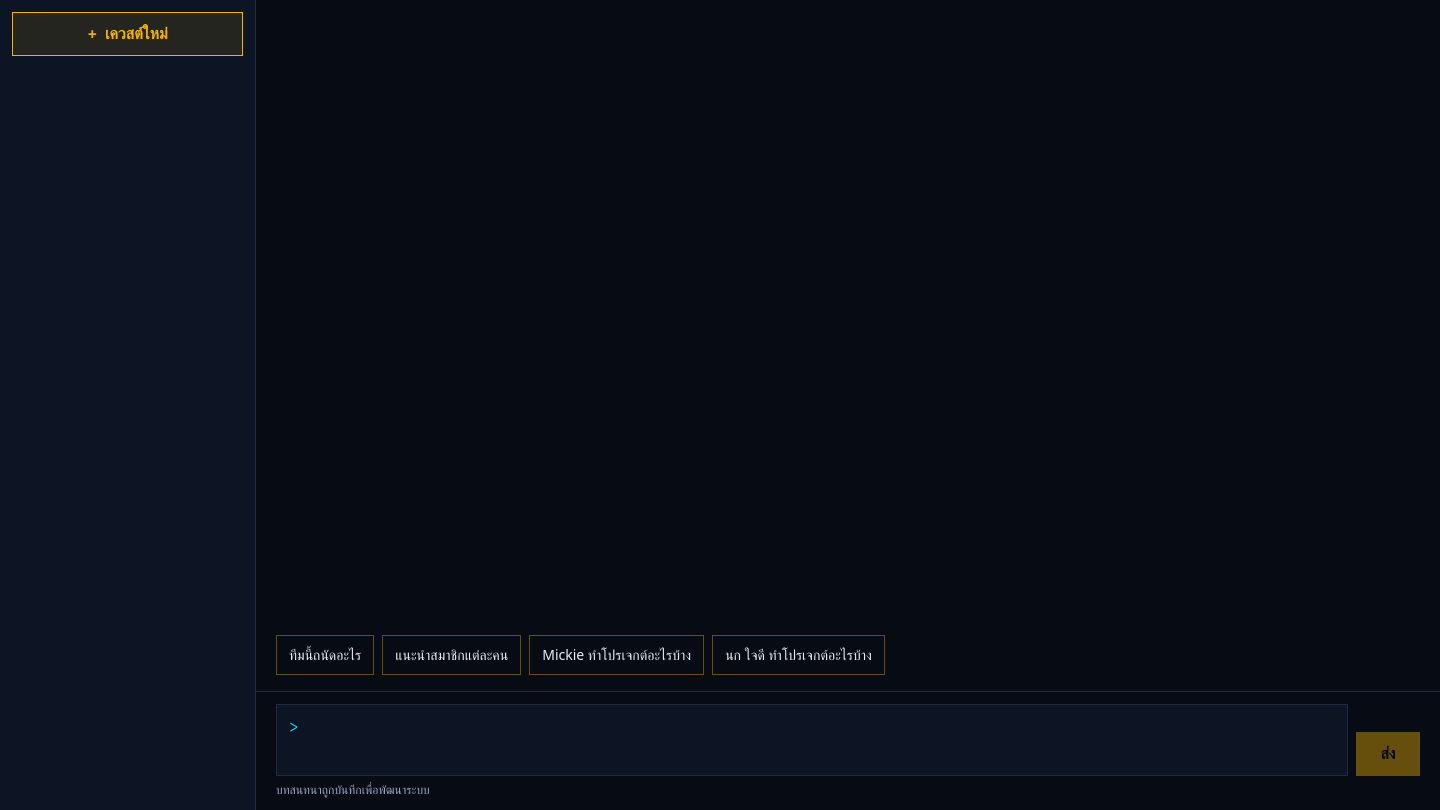
Test: ChatPage › send button is disabled when empty and while busy; caption shown
The image size is (1440, 810).
Expected: the button "ส่ง" is disabled, [1356, 732, 1420, 776]
Expected: the text "บทสนทนาถูกบันทึกเพื่อพัฒนาระบบ" is shown, [276, 781, 430, 798]
Type "hello" into the text box named "ข้อความ".
click(823, 740); type("hello")  # box [299, 705, 1347, 775]
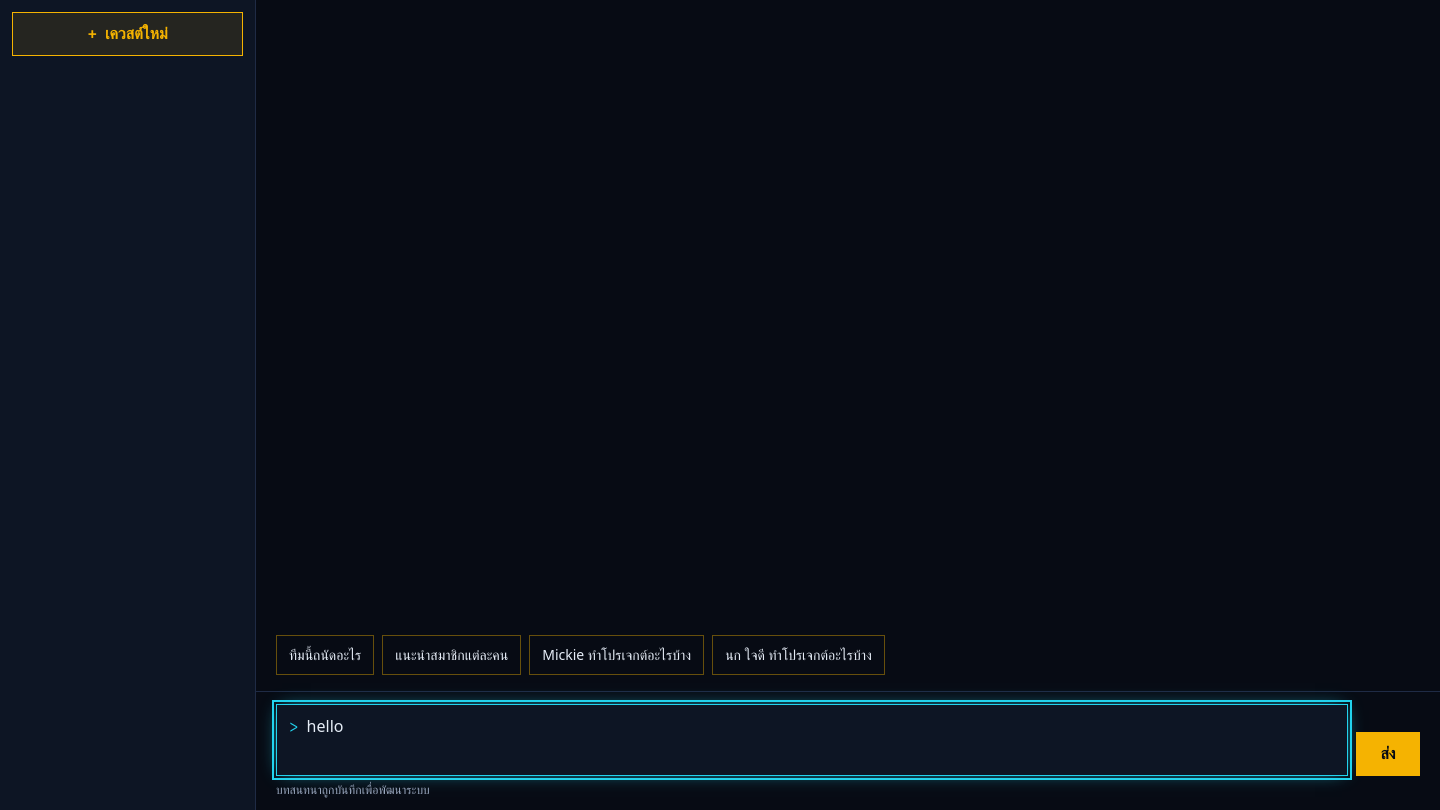
Expected: the button "ส่ง" is enabled
Click the button "ส่ง".
click(1388, 754)  # box [1356, 732, 1420, 776]
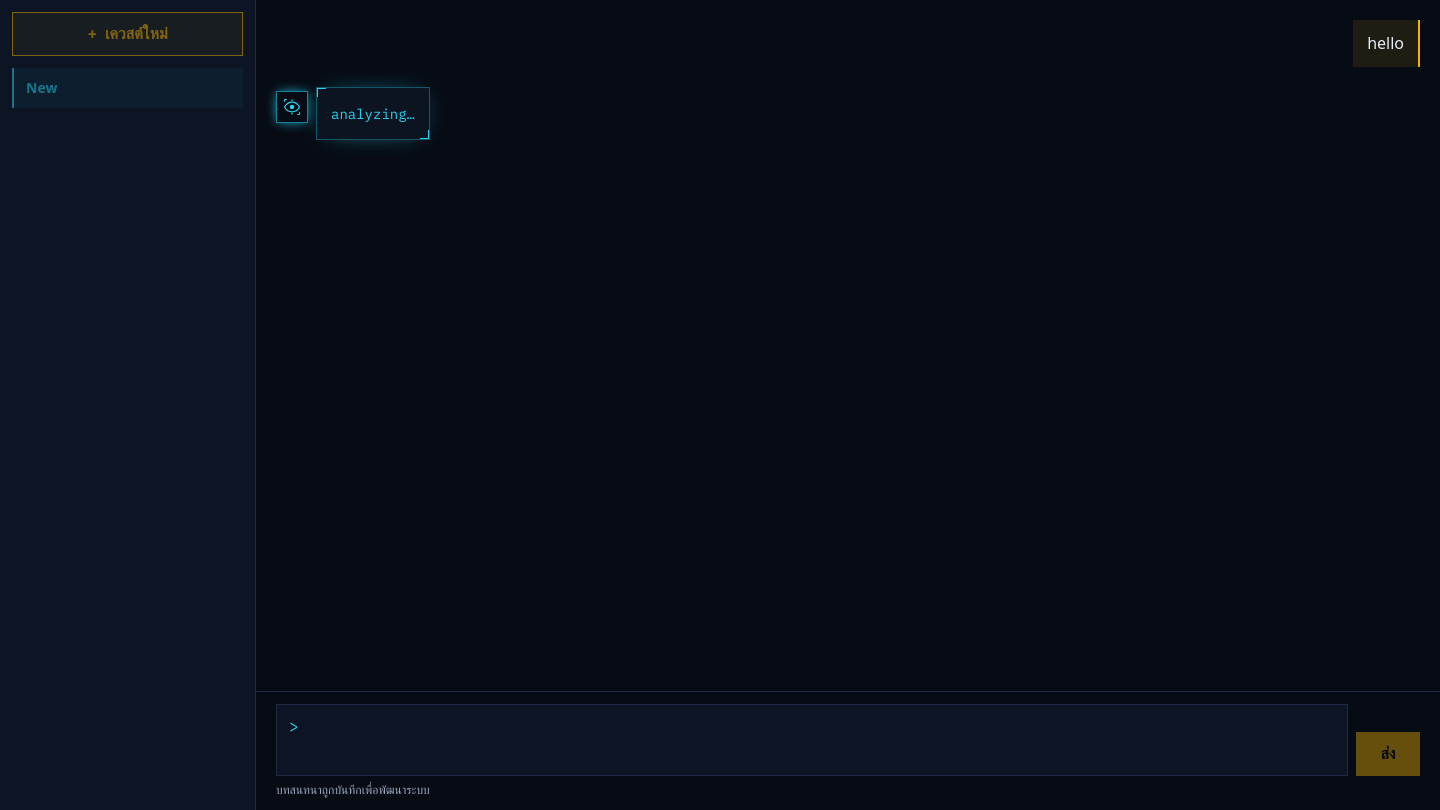
Expected: the text "analyzing…" is shown, [331, 105, 415, 123]
Expected: the button "ส่ง" is disabled, [1356, 732, 1420, 776]
